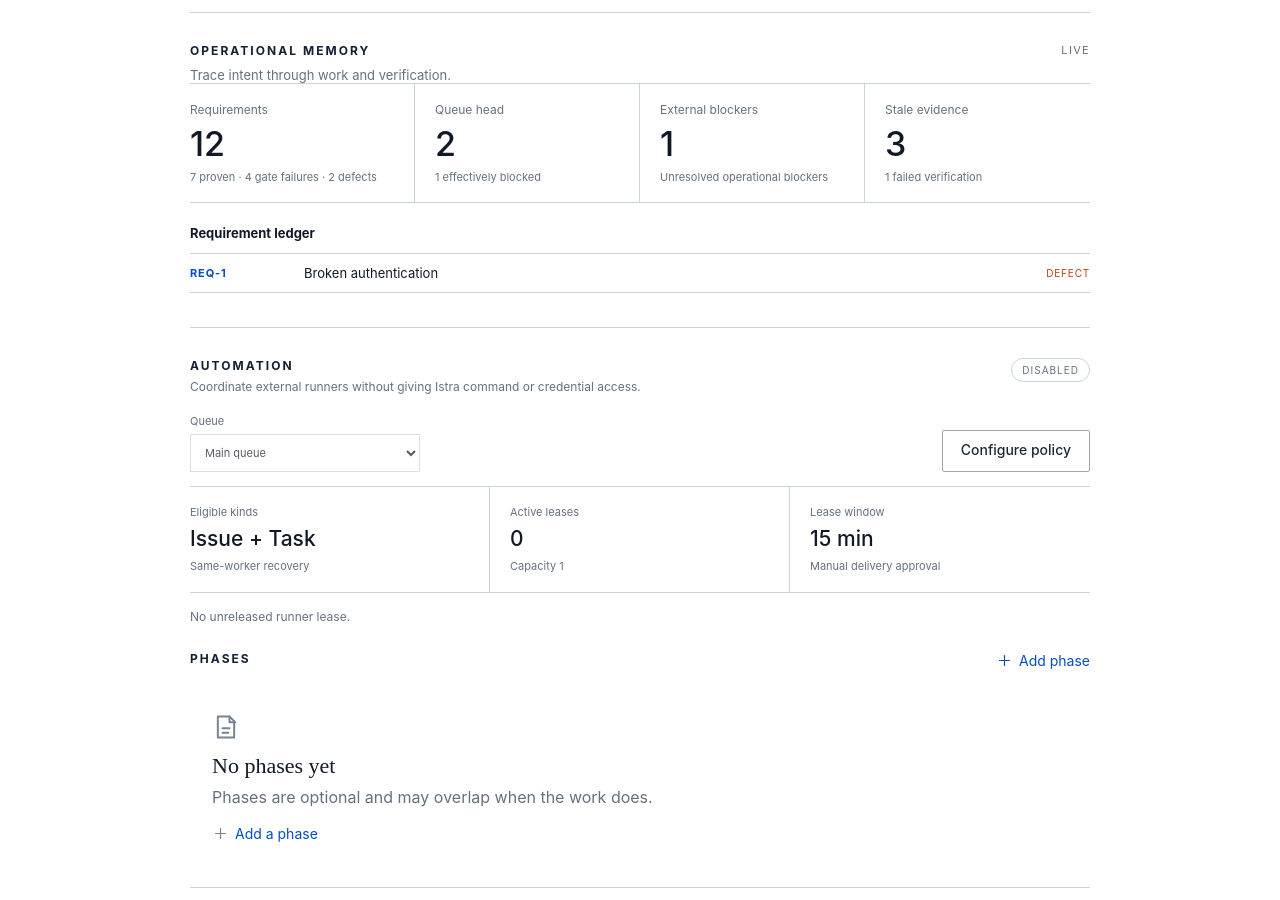
Test: ProjectPage › requires at least one eligible kind before saving a policy
(page scrolled)
Step 1. Click the button "Configure policy" → (1016, 451), box [942,430,1090,472]
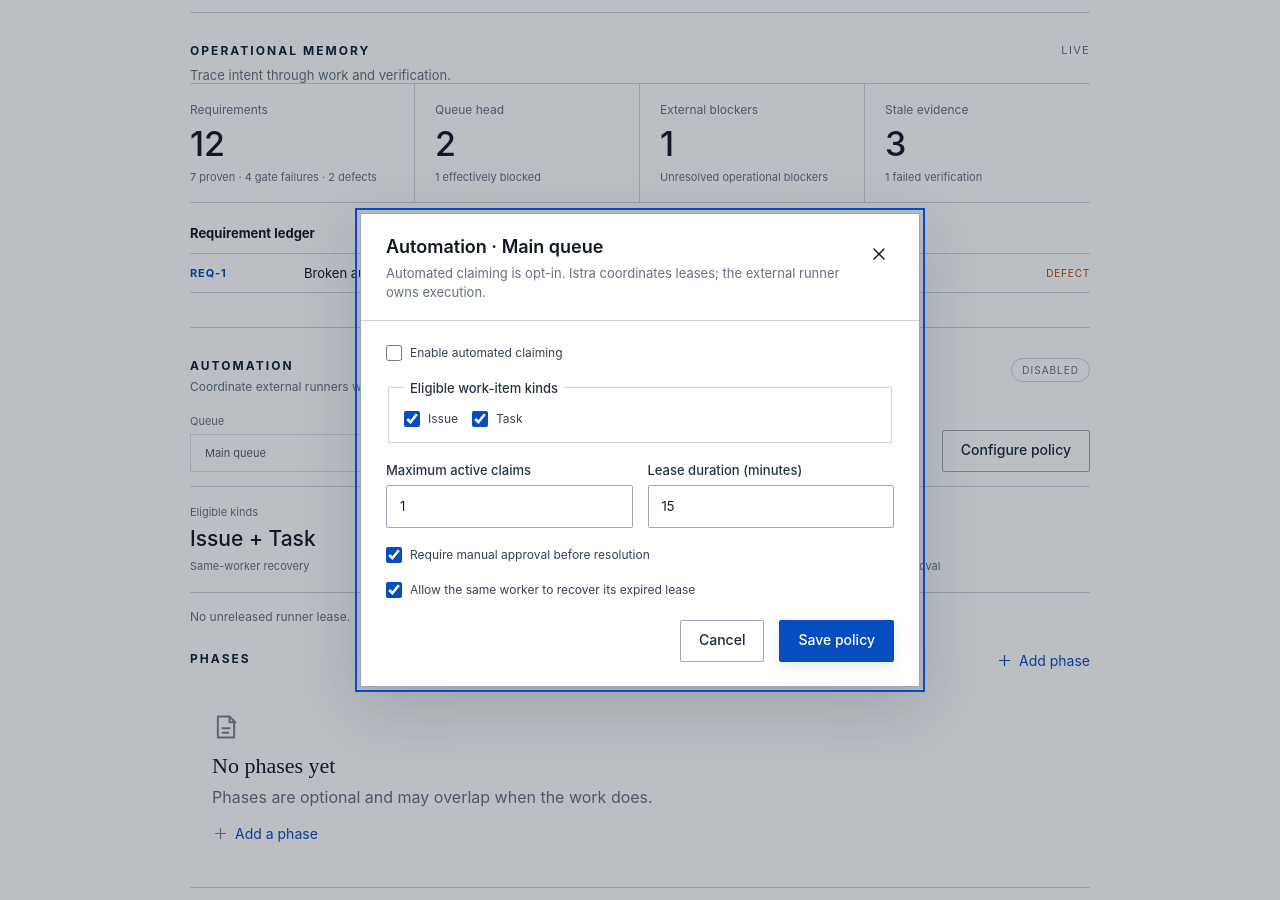
Step 2. Click the checkbox labelled "Issue" → (412, 419), box [404,411,420,427]
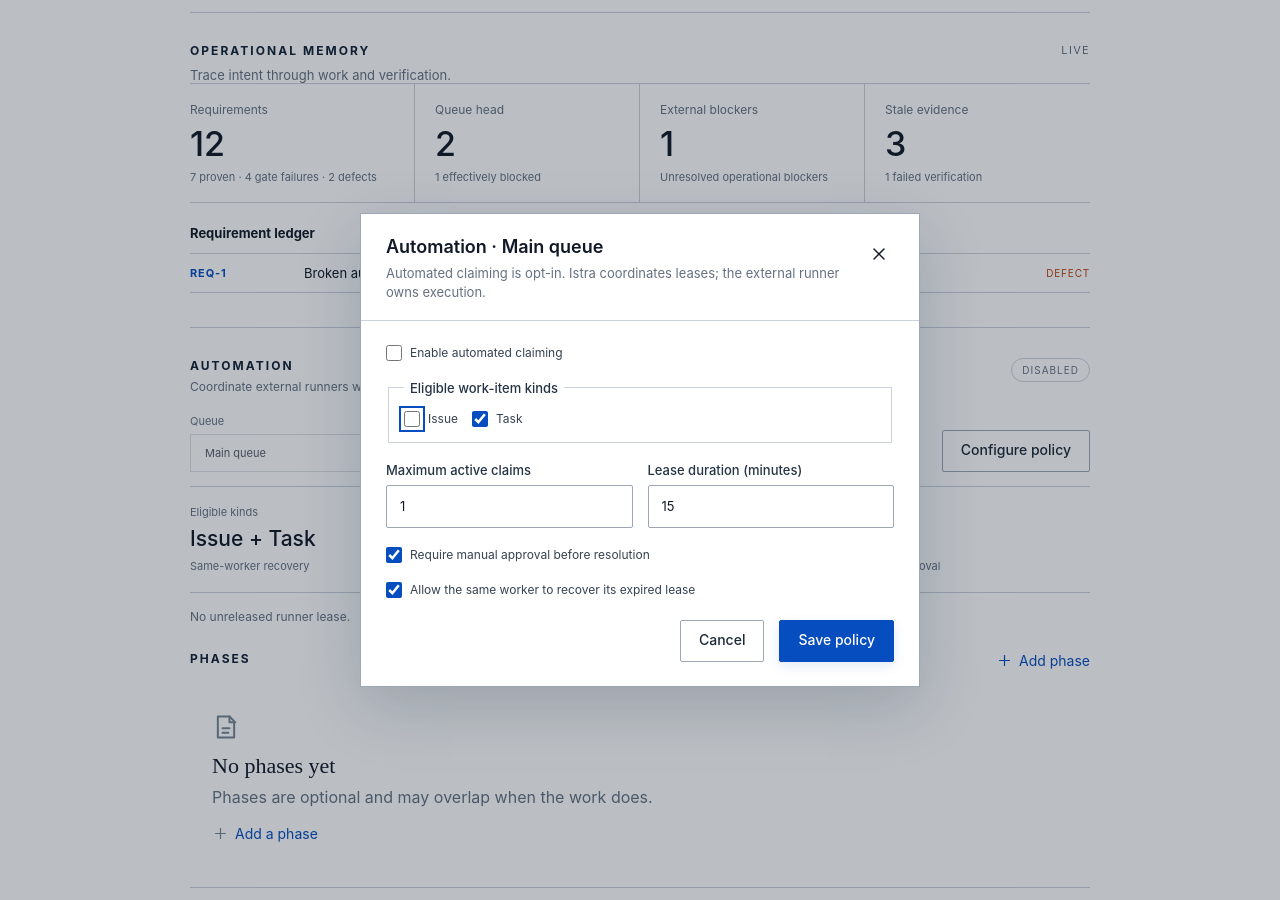
Step 3. Click the checkbox labelled "Task" → (480, 419), box [472,411,488,427]
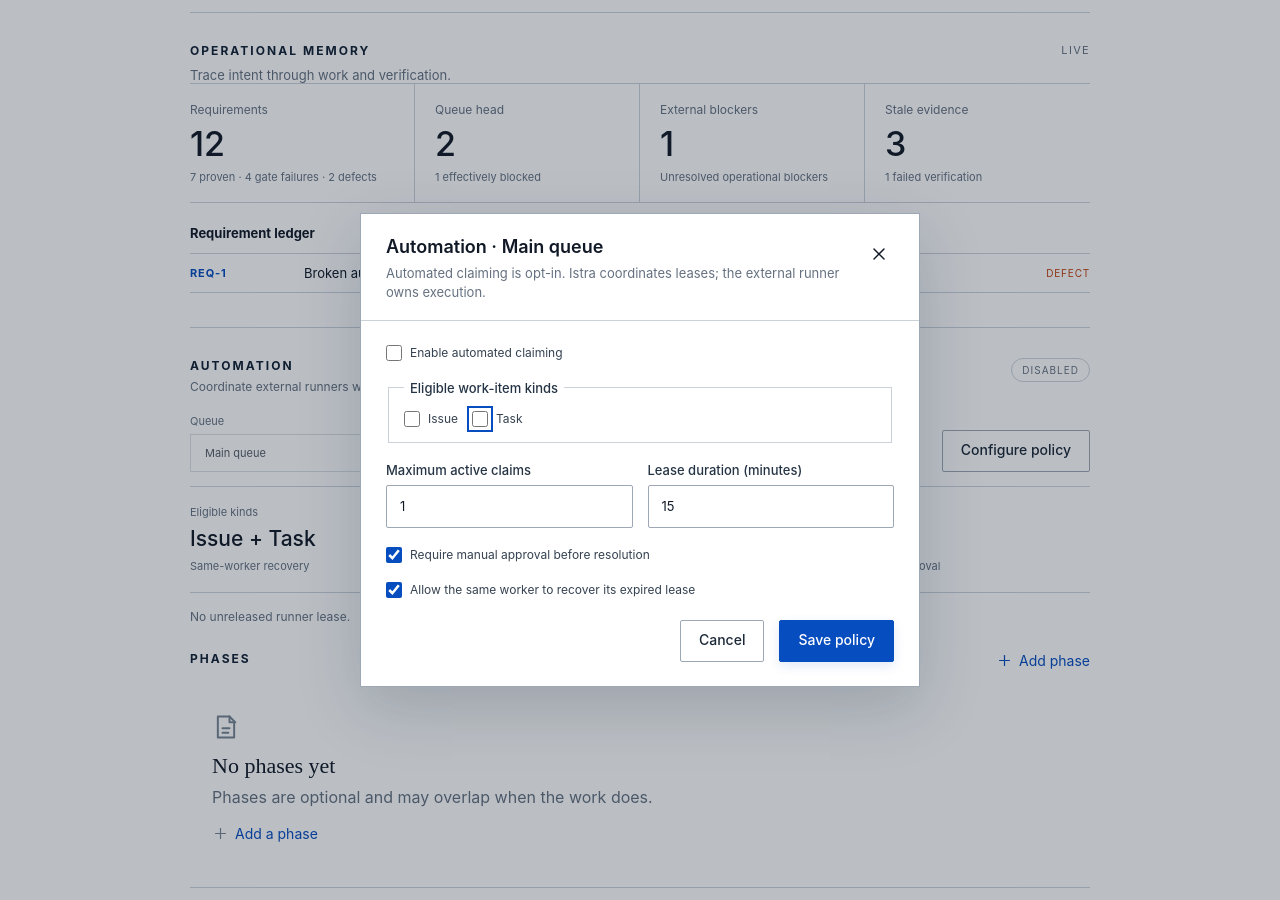
Step 4. Click the button "Save policy" → (837, 641), box [780,620,894,662]
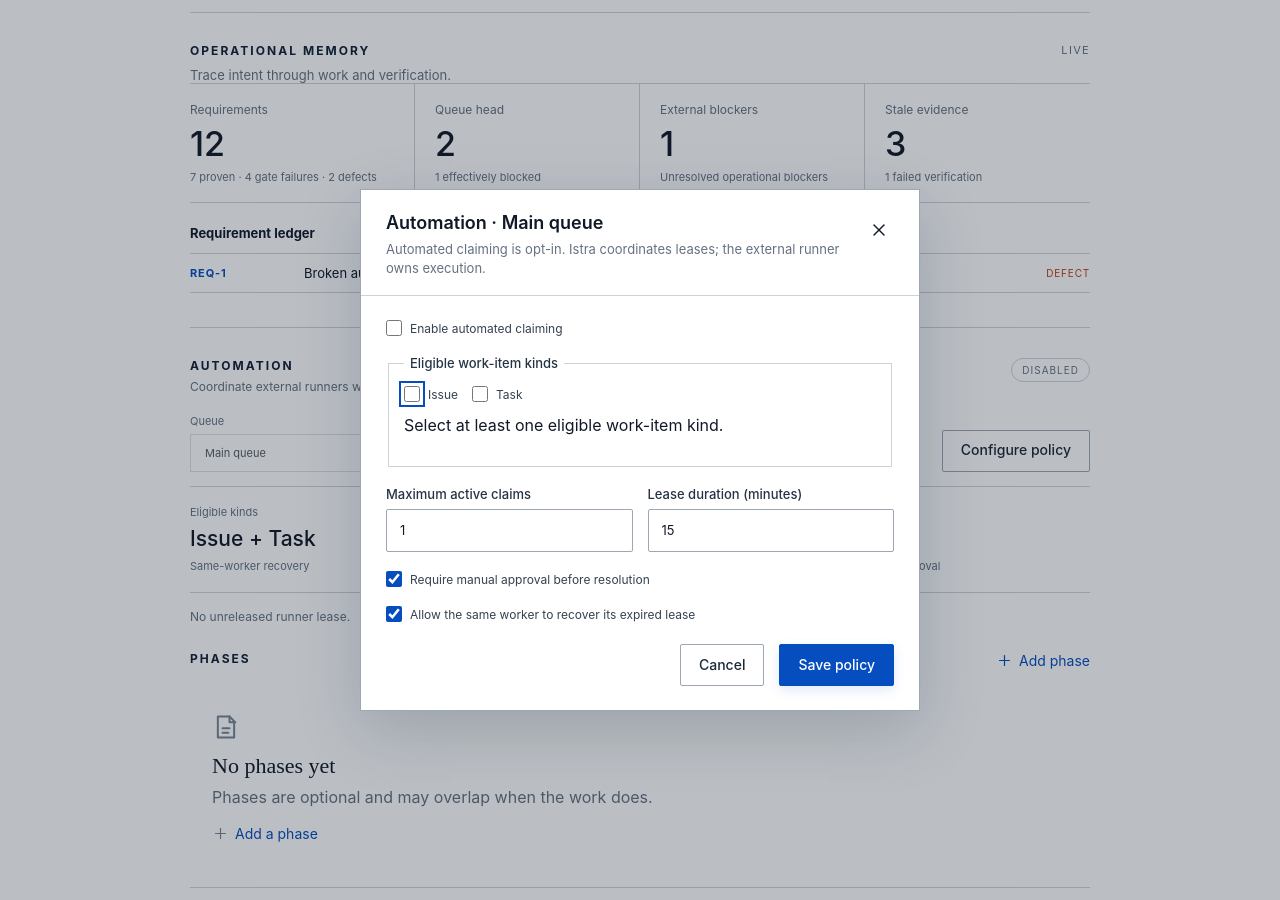
Result: the message reads "Select at least one eligible work-item kind." at [404,415,724,435]
